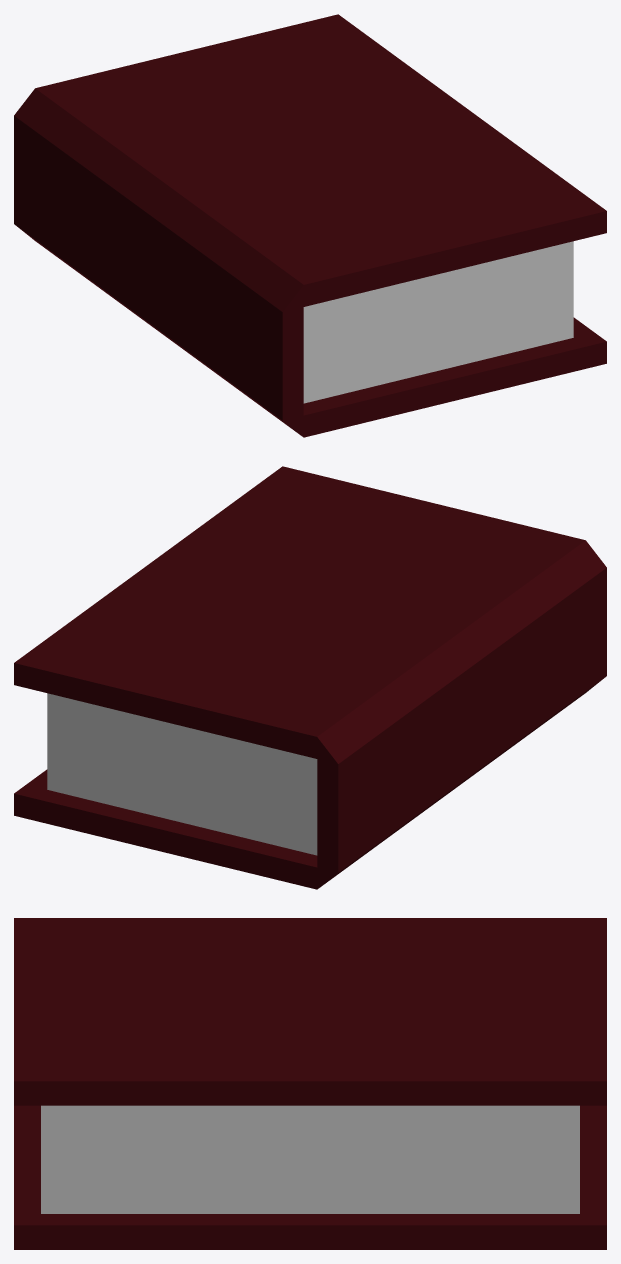
The model's file is Book5.fbx.
The picture shows the model from 3 angles, top to bottom: view 1: azimuth 30°, elevation 25°; view 2: azimuth 150°, elevation 25°; view 3: azimuth 270°, elevation 25°; orthographic projection. The views are drawn at different scales.
Parts seen in each view (by area): view 1: Cube; view 2: Cube; view 3: Cube.
Part boxes in pixels (x1,y1,x2,y2): Cube: [14, 14, 606, 437]; Cube: [14, 466, 606, 889]; Cube: [14, 918, 606, 1249].
Bounding box in the file's own units: 0.345 × 0.1553 × 0.495.
